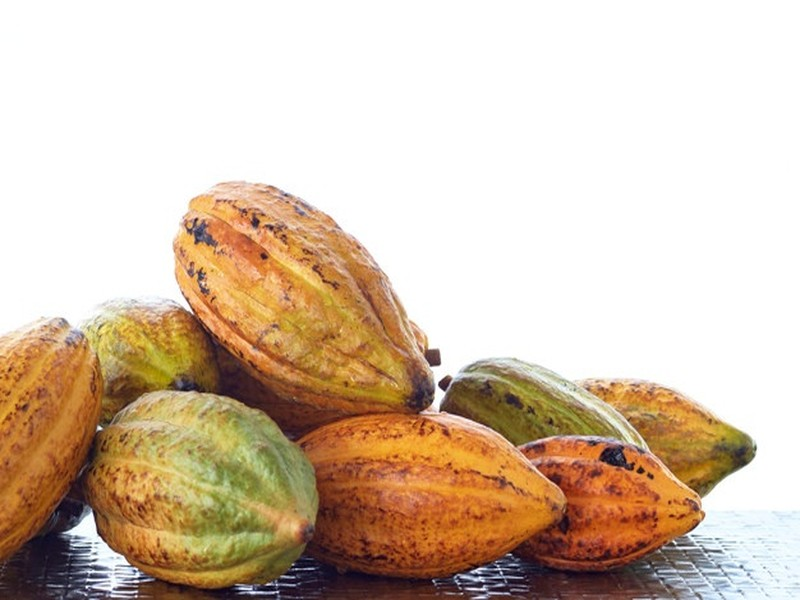Cacaopod: (175, 179, 437, 412), (89, 388, 319, 593)
